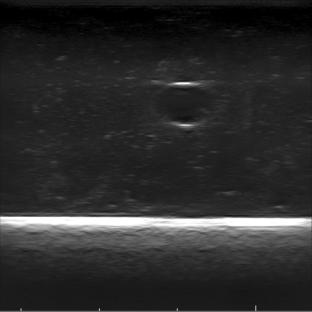vessel: (149, 79, 221, 129)
